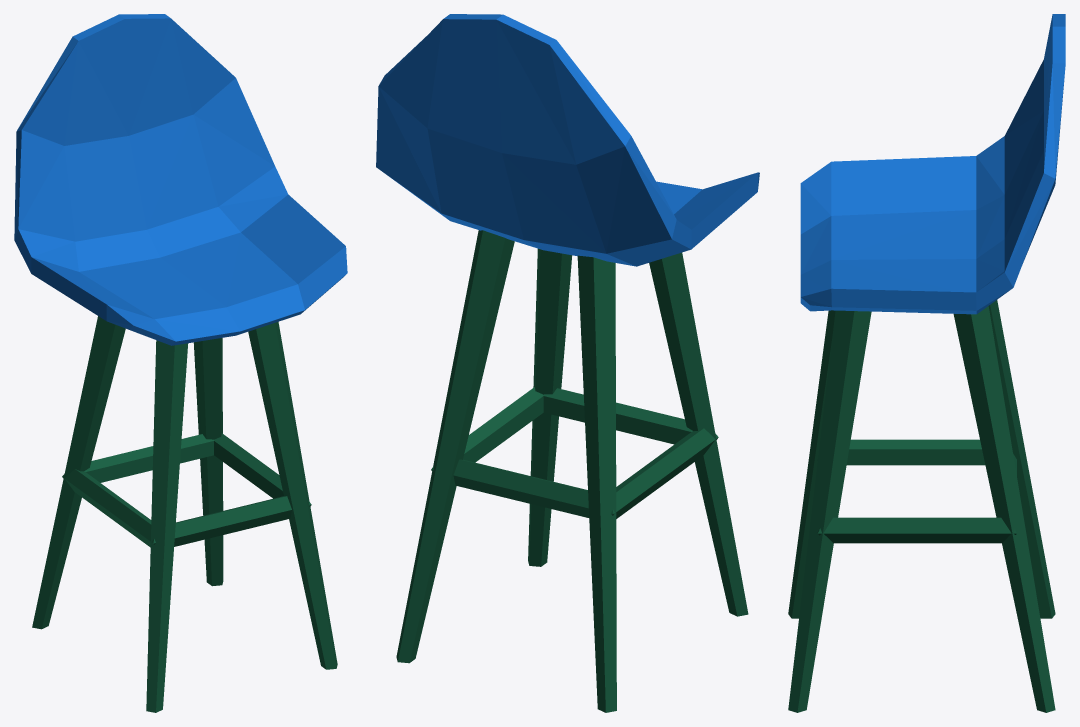
Rendered from T_chair2.fbx.
3 views of the same model, side by side, from view 1: azimuth 30°, elevation 25°; view 2: azimuth 150°, elevation 25°; view 3: azimuth 270°, elevation 25° (orthographic). The views are drawn at different scales.
Visible parts, largest first — view 1: chair2; view 2: chair2; view 3: chair2.
Boxes of the visible parts, left/top/right/bottom form: chair2: left=14, top=14, right=347, bottom=712; chair2: left=376, top=14, right=759, bottom=712; chair2: left=788, top=14, right=1065, bottom=712.
Size of the model in its own units: 55.55 by 120 by 47.71.
